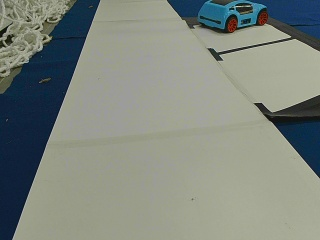car: (197, 1, 268, 32)
